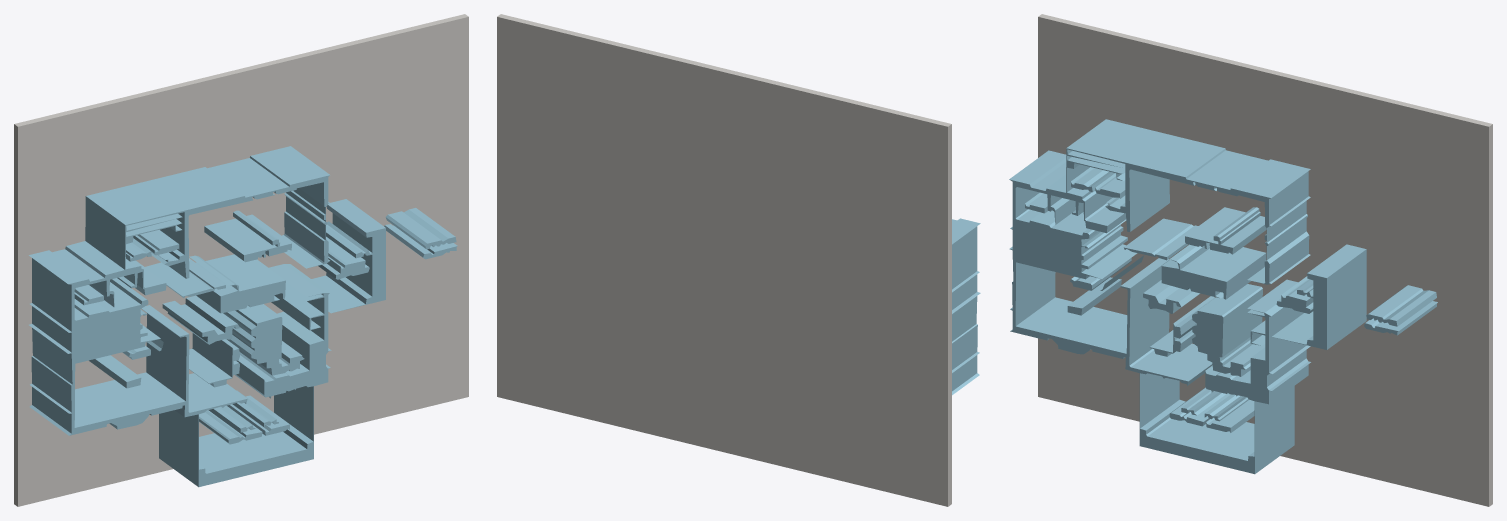
3 renders of one model, left to right at view 1: azimuth 30°, elevation 25°; view 2: azimuth 150°, elevation 25°; view 3: azimuth 330°, elevation 25°, orthographic.
Visible parts, largest first — view 1: world; view 2: world; view 3: world.
Part boxes in pixels (x1,y1,x2,y2): world: (14, 14, 468, 506); world: (497, 14, 980, 506); world: (1009, 14, 1492, 506).
Size of the model in its own units: 10.23 by 8.24 by 1.71.
